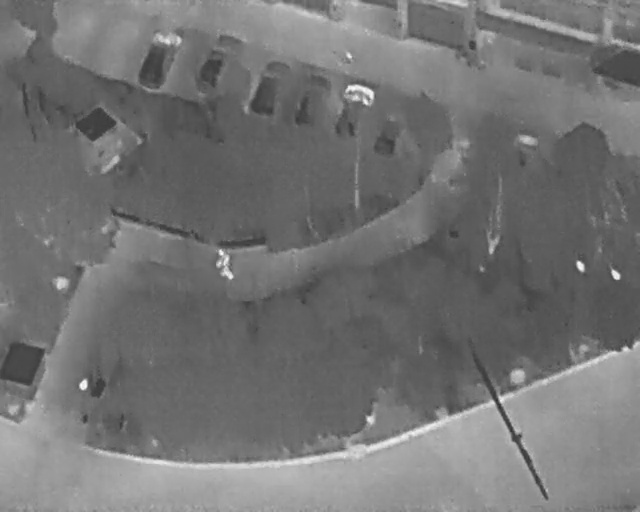Car: (133, 26, 182, 94), (329, 77, 380, 142), (193, 27, 240, 92), (246, 55, 292, 121), (290, 69, 336, 131), (368, 103, 412, 163)
Person: (212, 244, 236, 282), (342, 50, 355, 67)
